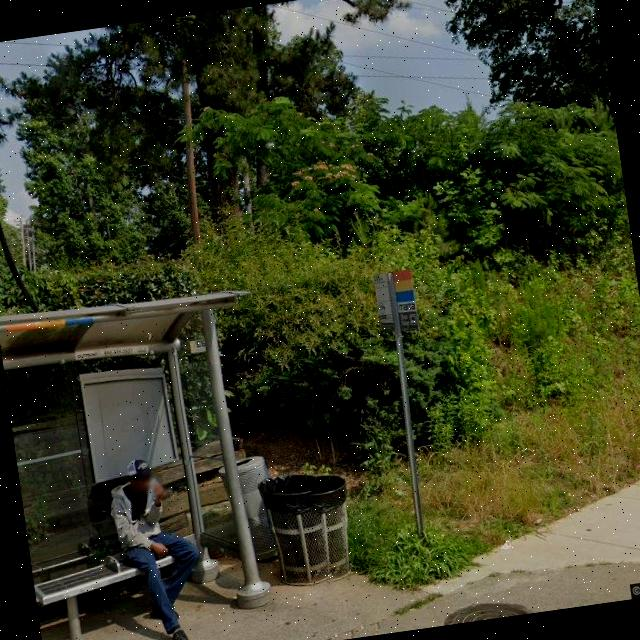seating: (31, 543, 185, 640)
shelter: (0, 282, 299, 640)
trash_can: (264, 472, 359, 586), (216, 453, 281, 566)
